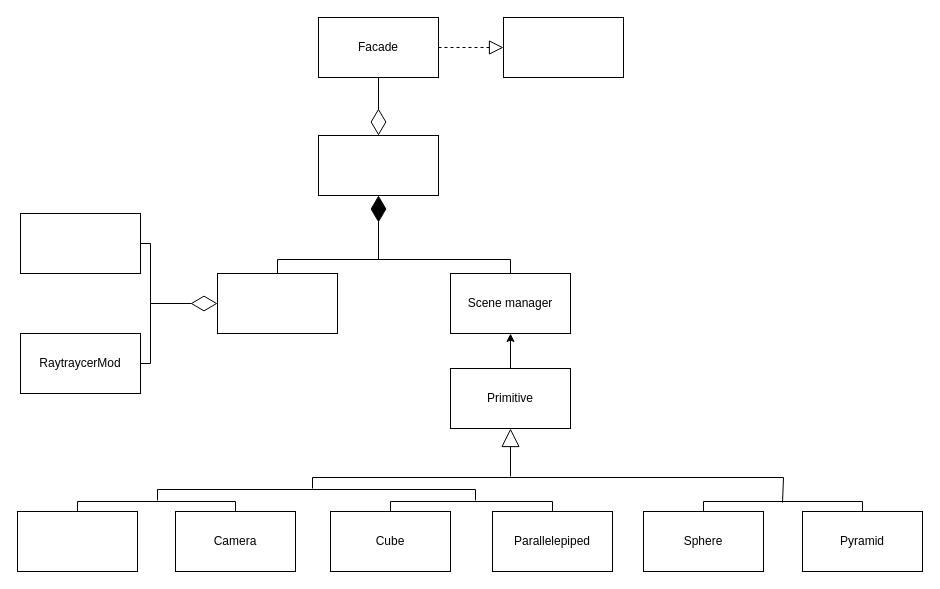
This 940x589 diagram has some shape labels left out. The box of each missing label's shape, as (x1, y1, x2, y2) in pixels:
Command: (502, 16, 624, 78)
Controller: (318, 134, 438, 196)
Light: (16, 510, 138, 572)
Raytrace manager: (216, 272, 338, 334)
Raytracer: (20, 212, 140, 274)
